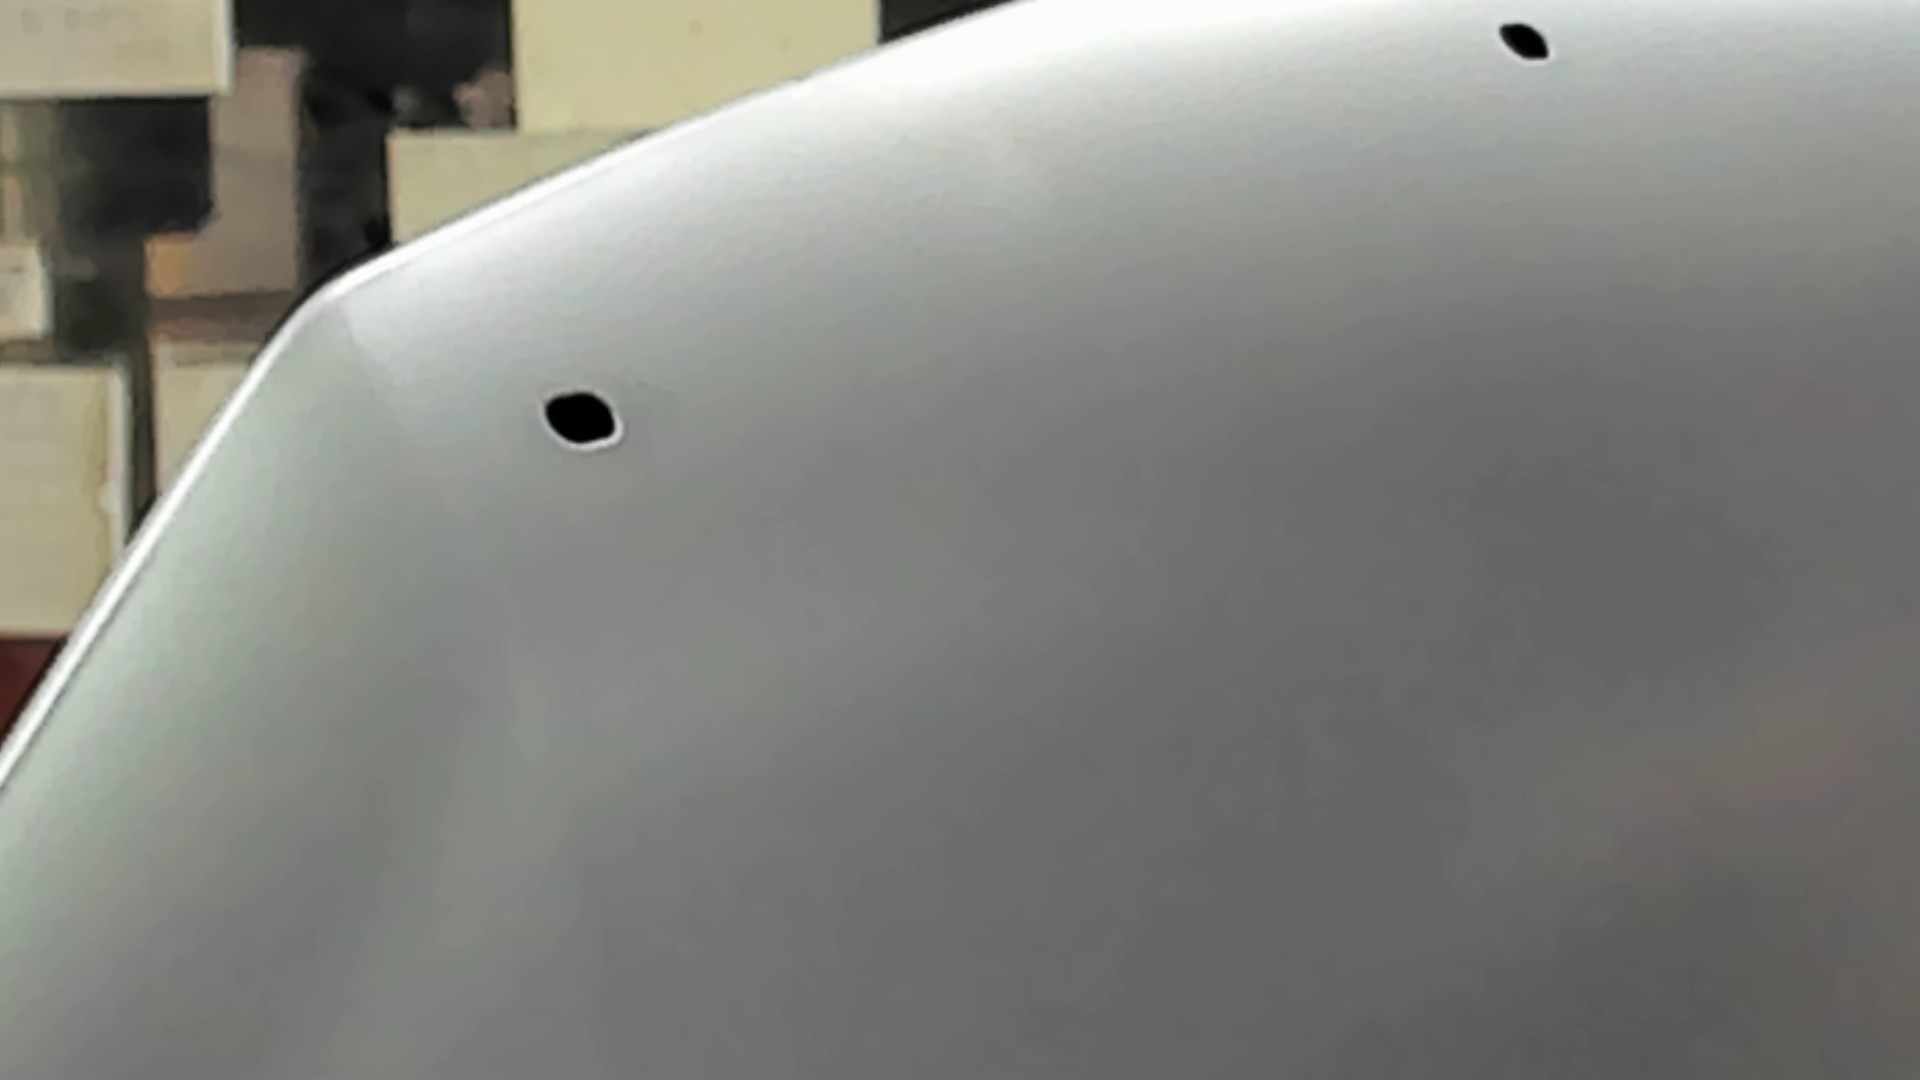amorfo: (525, 386, 644, 458), (1491, 15, 1561, 70)
capo: (723, 152, 1920, 1080)
